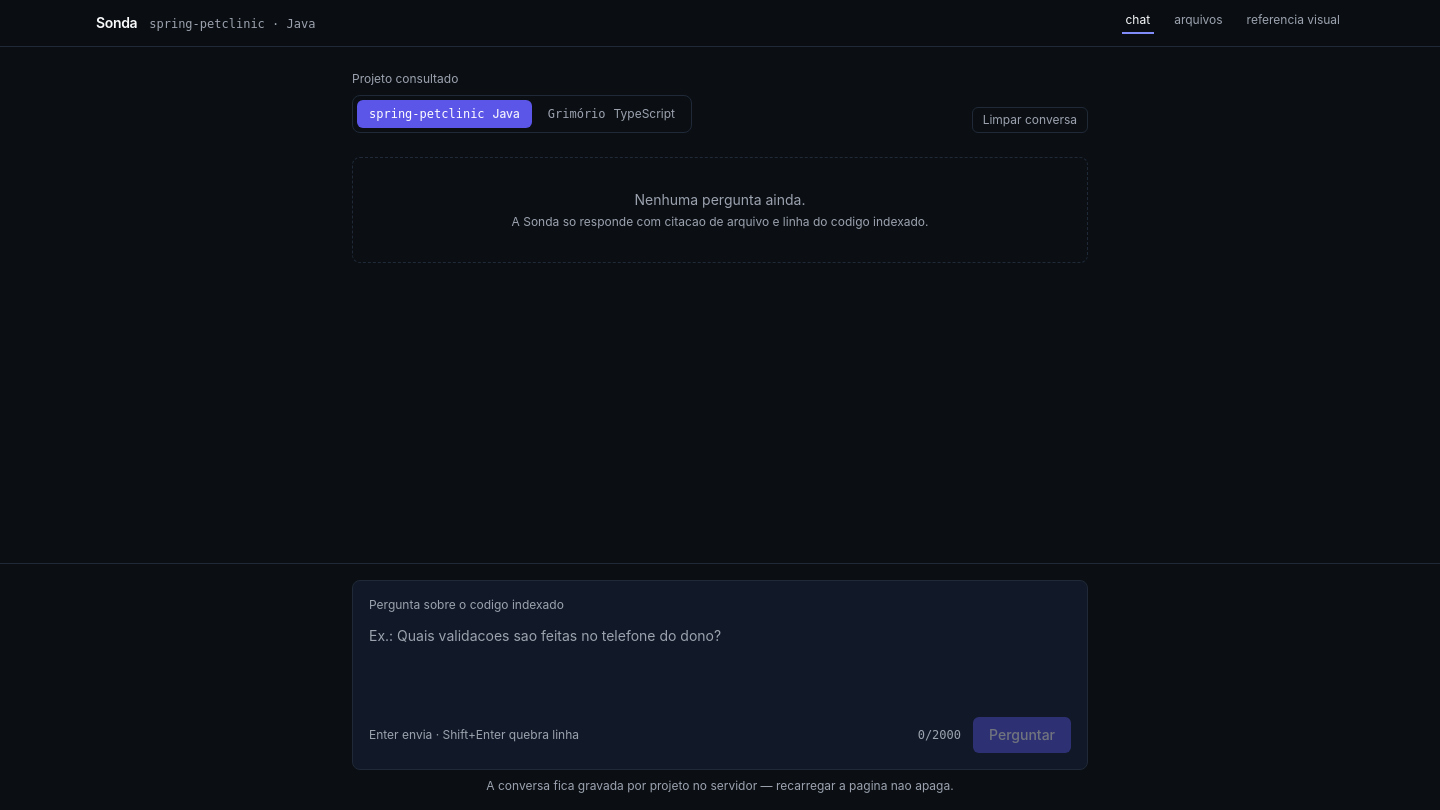
Test: AnswerCard com o contrato novo › mostra as duas buscas com a similaridade de cada uma
Type "pergunta" into the text box labelled "Pergunta sobre o codigo indexado".
click(720, 665); type("pergunta")  # box [369,625,1071,705]
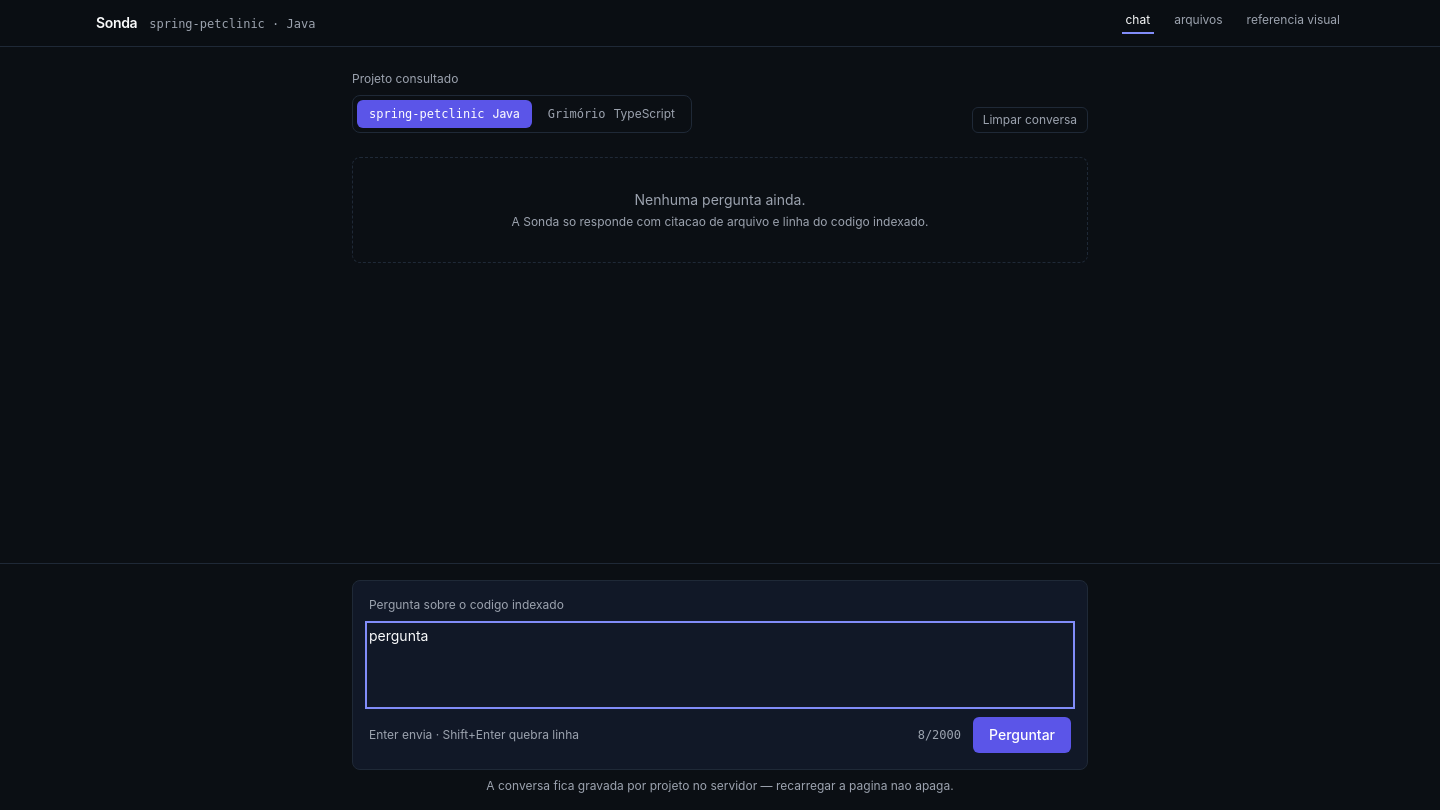
Press Enter
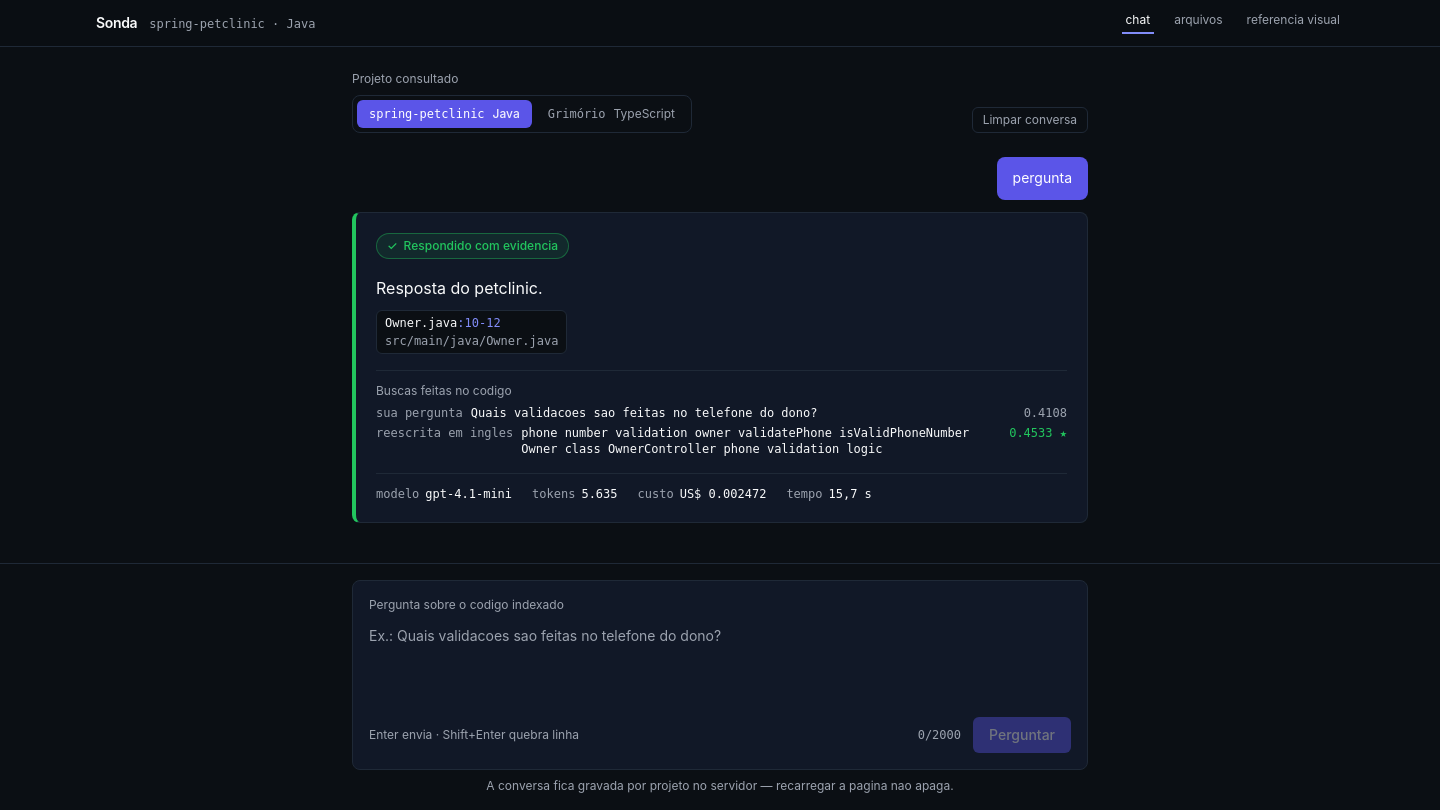
Result: the text "Resposta do petclinic." is shown at [376,278,542,298]
Result: the text "Buscas feitas no codigo" is shown at [376,383,512,398]
Result: the text "sua pergunta" is shown at [376,405,463,421]
